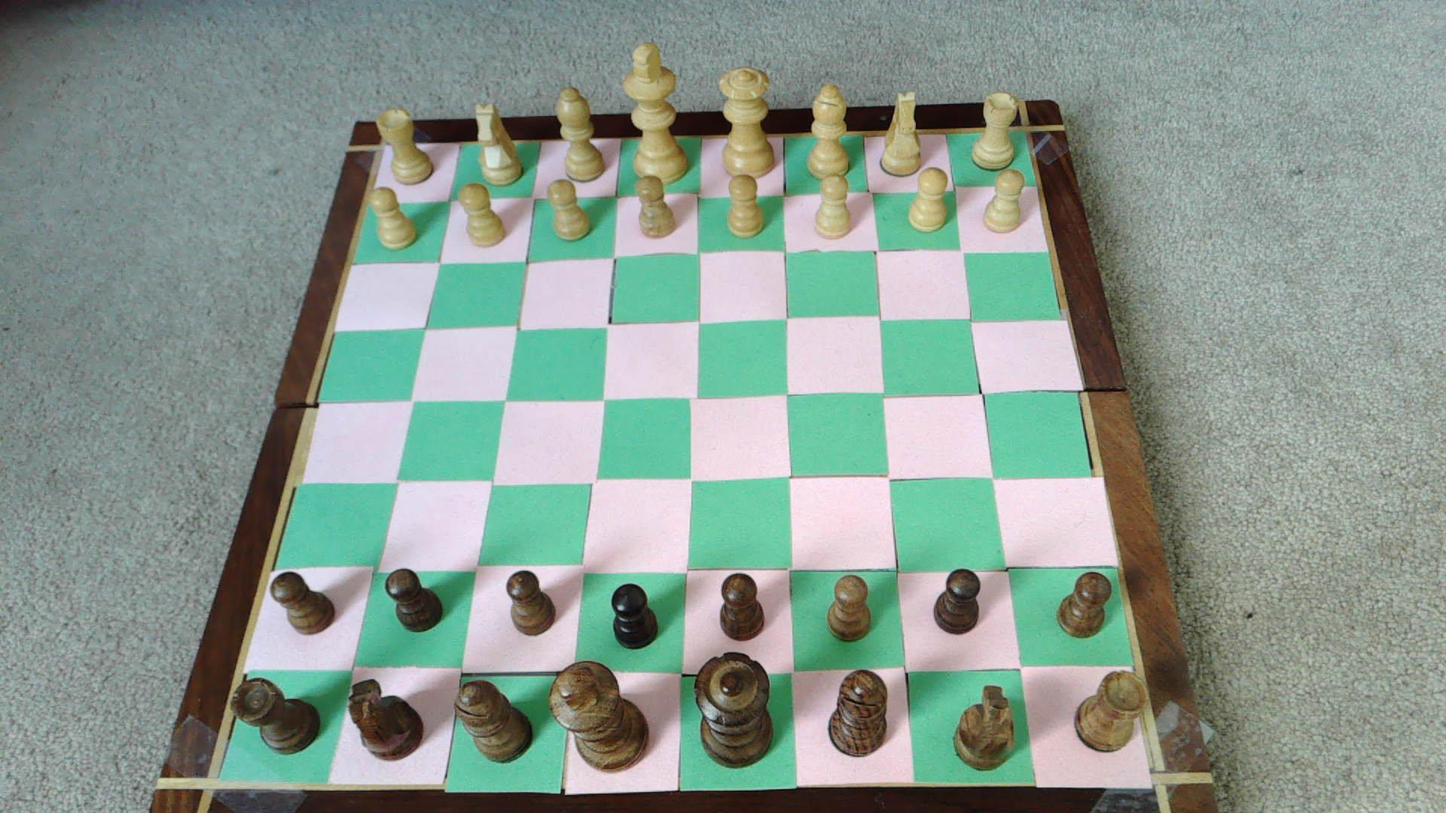dark_piece: (550, 660, 648, 770), (695, 653, 772, 766), (231, 678, 319, 753), (455, 679, 531, 761), (349, 679, 423, 759), (1075, 671, 1147, 751), (953, 685, 1014, 769), (829, 670, 887, 755), (270, 572, 335, 633), (385, 569, 442, 631), (1058, 572, 1110, 638), (612, 583, 659, 649), (506, 571, 555, 634), (719, 573, 764, 641), (934, 569, 980, 633), (828, 575, 871, 639)
white_piece: (622, 42, 690, 183), (720, 69, 777, 177), (554, 87, 605, 181), (377, 108, 434, 185), (807, 84, 850, 180), (473, 102, 523, 184), (879, 93, 923, 175), (971, 92, 1017, 169), (458, 184, 507, 247), (372, 187, 417, 250), (984, 169, 1026, 233), (548, 180, 592, 241), (635, 175, 677, 238), (908, 168, 949, 232), (726, 174, 765, 237), (814, 176, 852, 238)
